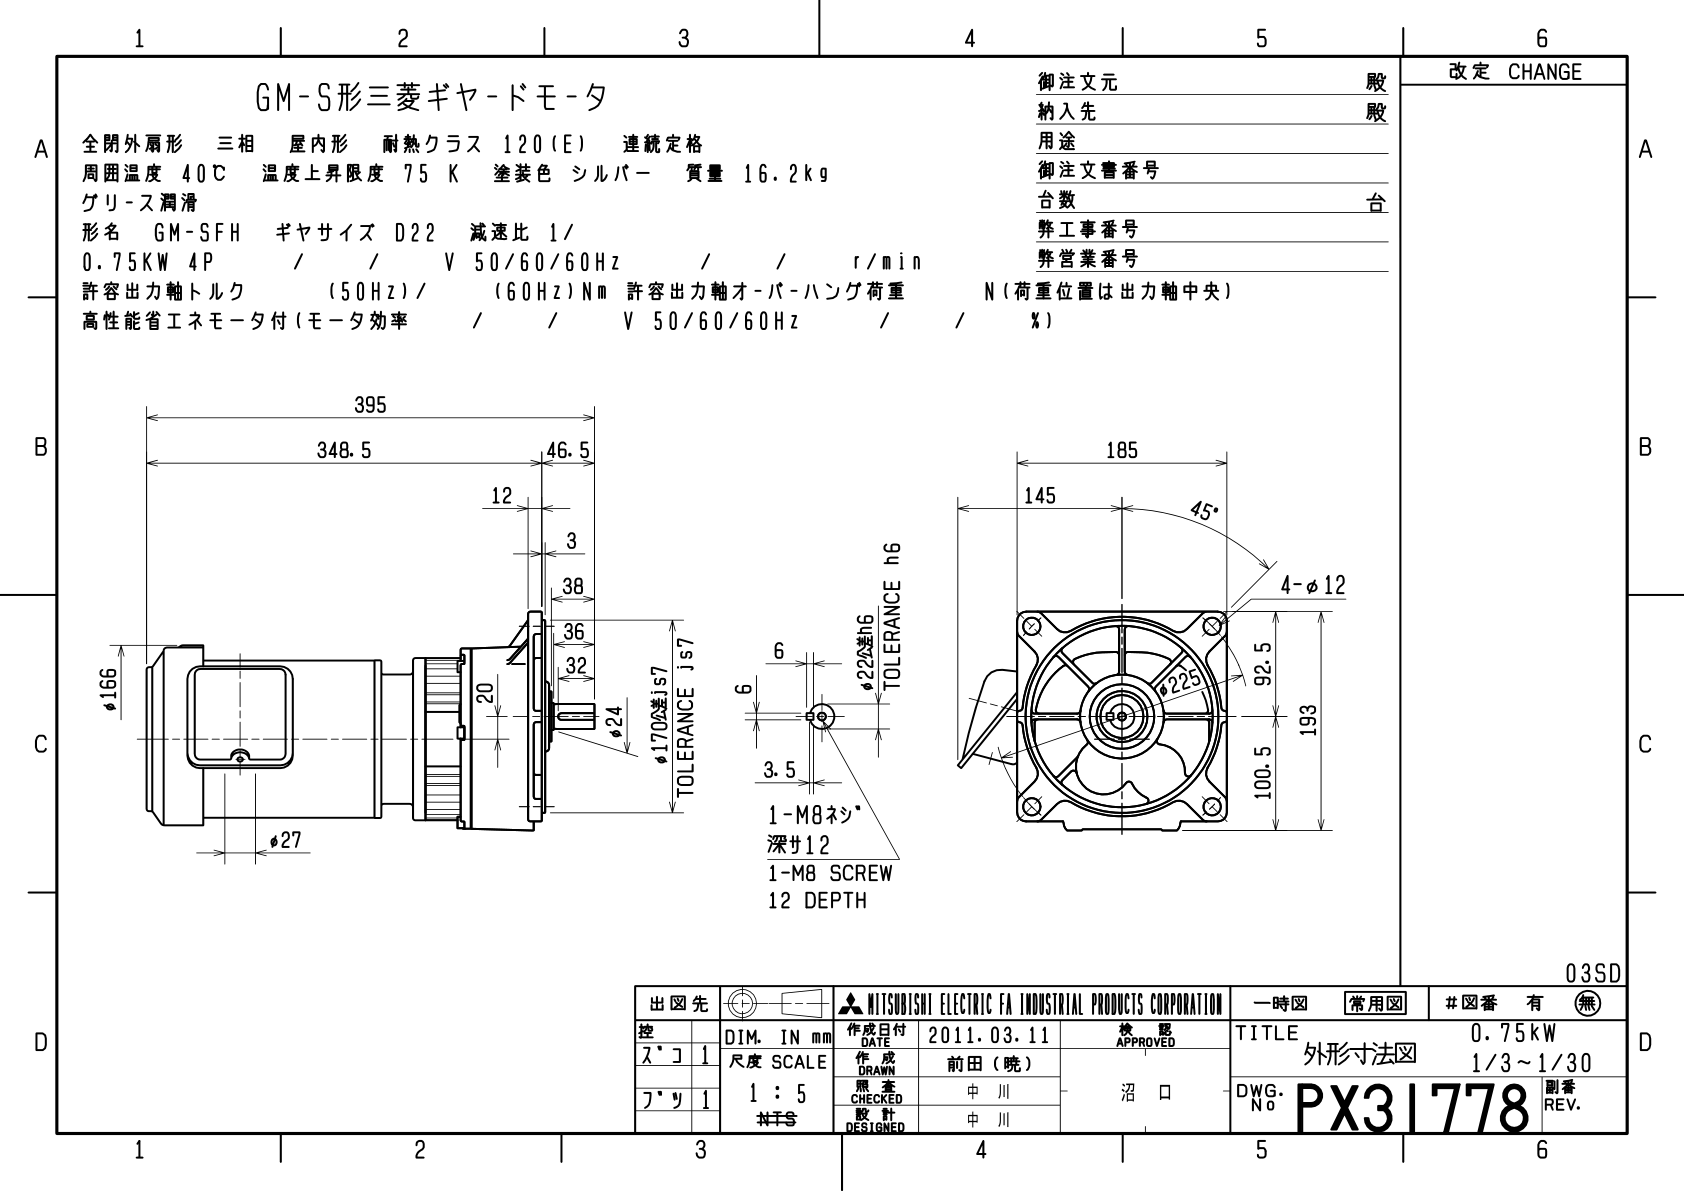GM_S_高効率屋内＿三相_フランジ: (85, 375, 1373, 941)
